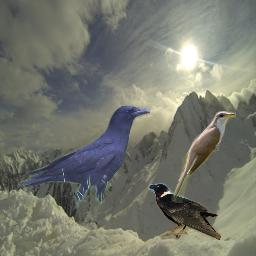Crow: (17, 104, 150, 212), (148, 182, 221, 240)
Cuckoo: (170, 111, 236, 203)
